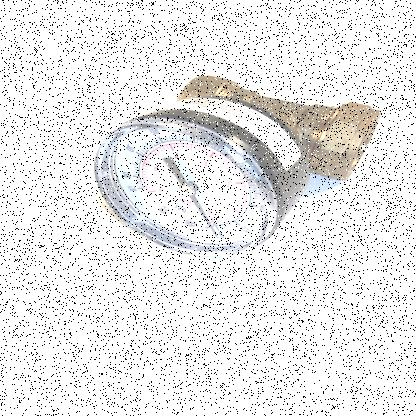needle: (189, 195, 220, 239)
